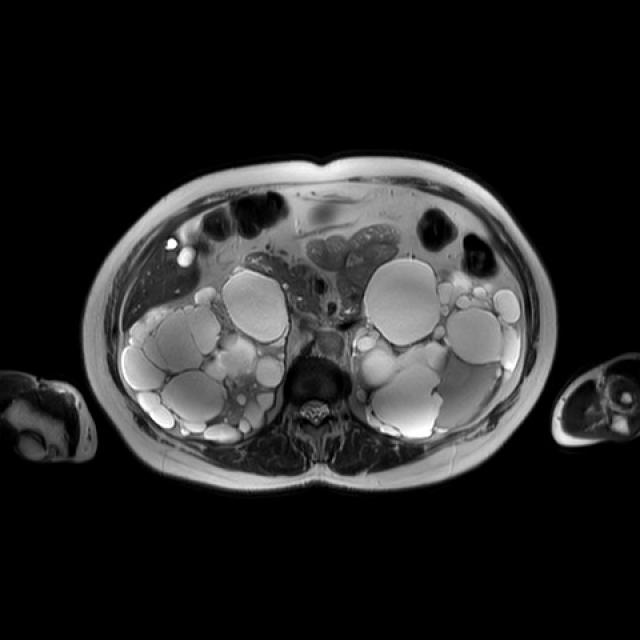sag: (123, 266, 292, 445)
sol: (357, 260, 518, 437)
